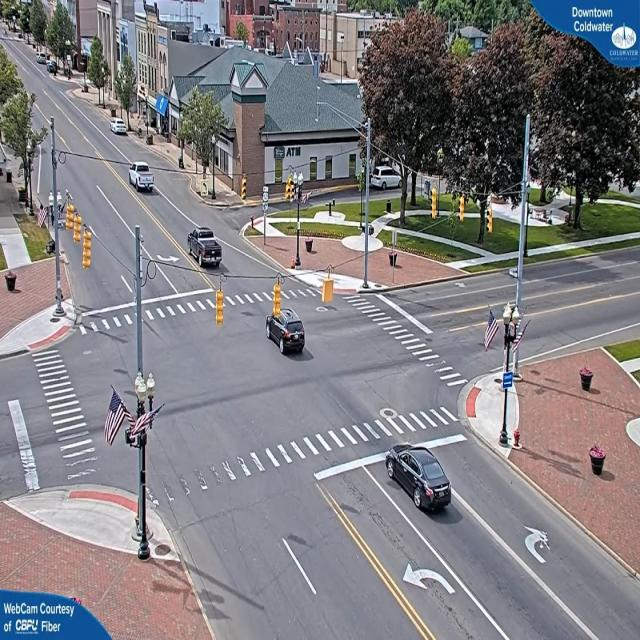car: (386, 446, 454, 514), (265, 309, 306, 356), (186, 229, 223, 268), (128, 162, 156, 193), (111, 120, 129, 136)
